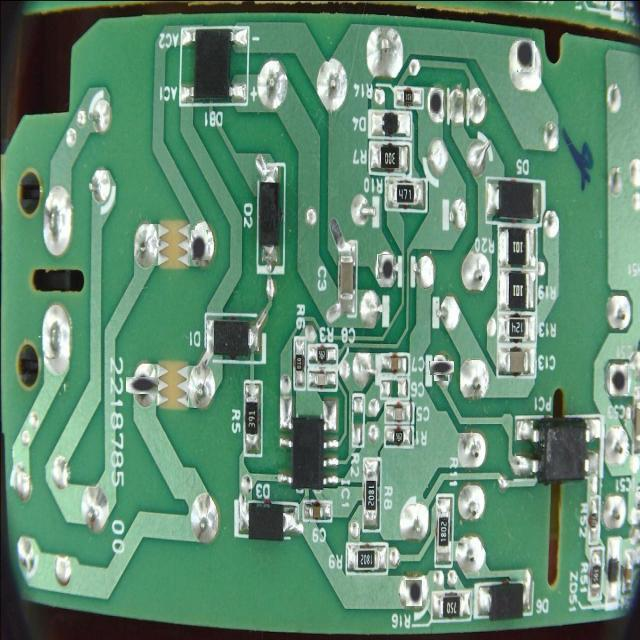damged: (130, 372, 154, 398), (517, 42, 535, 74), (192, 230, 210, 260), (610, 366, 628, 394), (406, 580, 422, 606), (431, 358, 451, 378), (378, 254, 393, 279), (429, 90, 443, 114)
